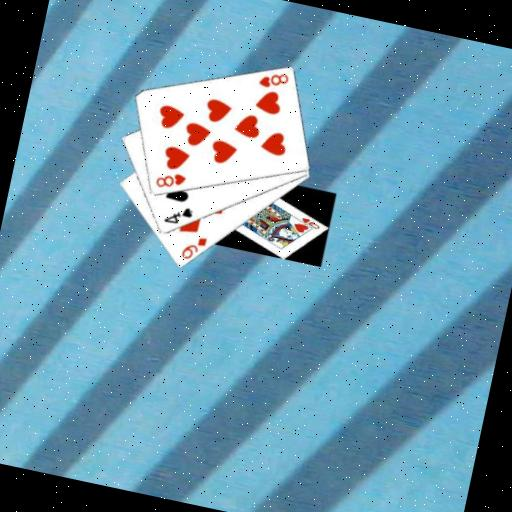4S: (159, 199, 195, 229)
8H: (151, 166, 188, 194), (255, 65, 291, 93)
9D: (177, 230, 209, 264)
